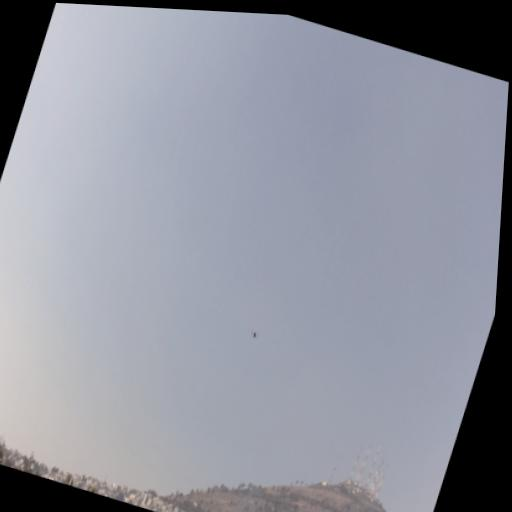drones: (249, 329, 261, 340)
